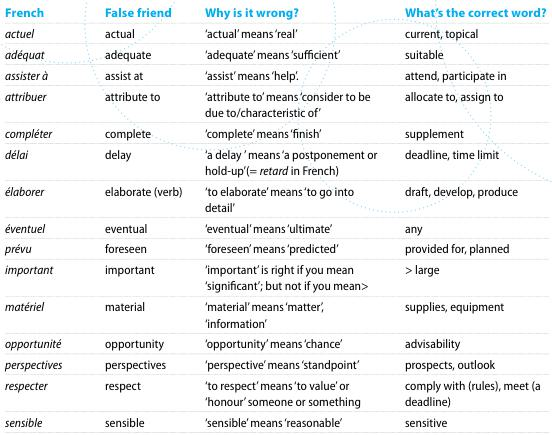table: (4, 3, 545, 429)
table column: (192, 3, 390, 429), (390, 3, 545, 429), (82, 3, 192, 429), (4, 3, 82, 429)
table column header: (4, 3, 545, 22)
table row: (4, 84, 545, 121), (4, 142, 545, 179), (4, 179, 545, 216), (4, 258, 545, 295), (4, 295, 545, 332), (4, 374, 545, 411), (4, 22, 545, 43), (4, 43, 545, 64), (4, 121, 545, 142), (4, 216, 545, 237), (4, 237, 545, 258), (4, 332, 545, 353), (4, 353, 545, 374), (4, 64, 545, 84), (4, 3, 545, 22), (4, 411, 545, 429)
